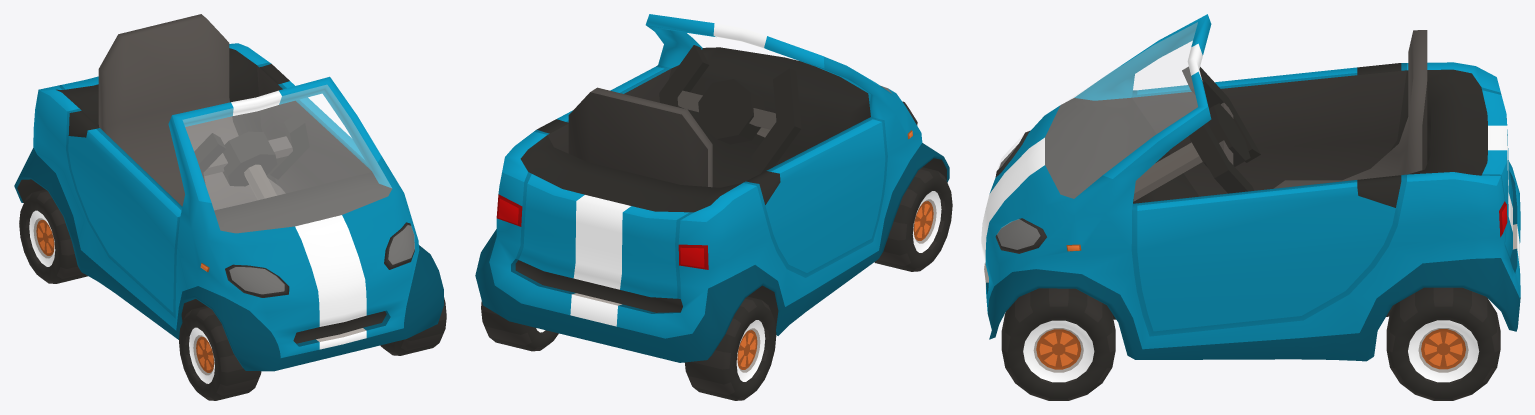
Rendered from stop_car.glb.
The picture shows the model from 3 angles, left to right: view 1: azimuth 30°, elevation 25°; view 2: azimuth 150°, elevation 25°; view 3: azimuth 270°, elevation 25°; orthographic projection. The views are drawn at different scales.
Visible parts, largest first — view 1: stop_car, stop_car_glass; view 2: stop_car; view 3: stop_car, stop_car_glass.
Boxes of the visible parts, <box> form: stop_car: <box>14,14,446,400</box>; stop_car_glass: <box>183,85,414,297</box>; stop_car: <box>475,14,952,400</box>; stop_car: <box>981,14,1520,400</box>; stop_car_glass: <box>995,22,1197,253</box>.
Size of the model in its own units: 2.23 by 2.19 by 3.79.
Materials: 1 (1 with a texture image).
